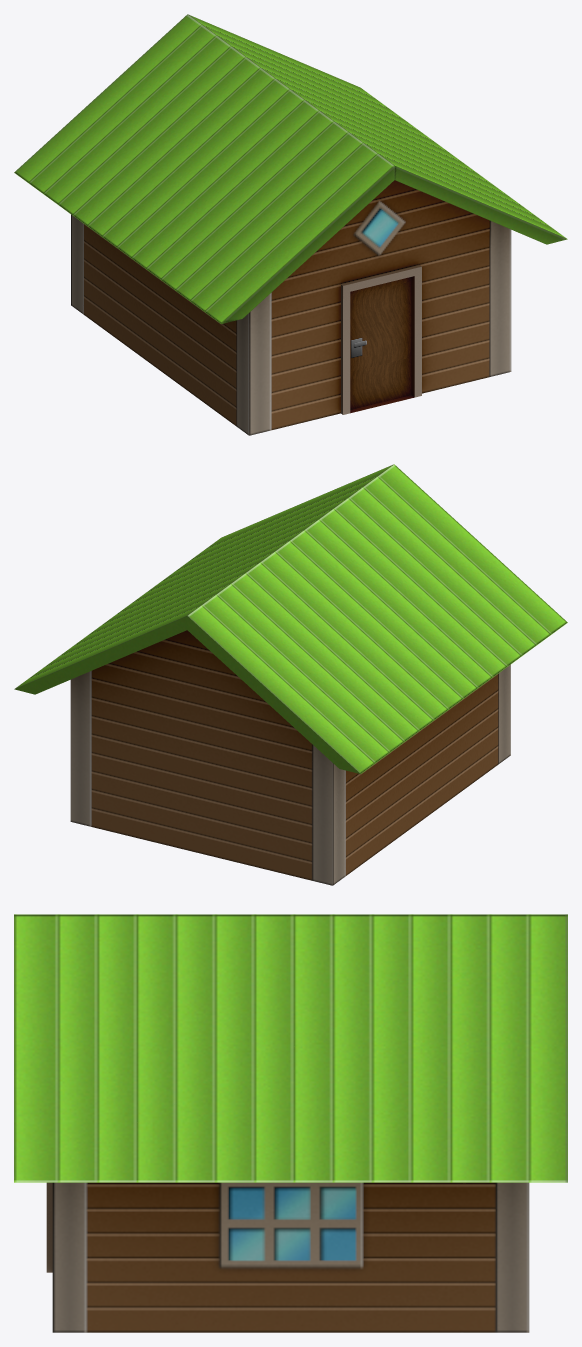
Rendered from chicken_coop.fbx.
3 views of the same model, one above another, from view 1: azimuth 30°, elevation 25°; view 2: azimuth 150°, elevation 25°; view 3: azimuth 270°, elevation 25° (orthographic). The views are drawn at different scales.
Parts seen in each view (by area): view 1: chicken_coop_geo, door_geo; view 2: chicken_coop_geo; view 3: chicken_coop_geo.
Part boxes in pixels (box(x1,y1,x2,y2)): chicken_coop_geo: box(14, 14, 567, 435); door_geo: box(350, 277, 411, 409); chicken_coop_geo: box(14, 464, 567, 885); chicken_coop_geo: box(14, 914, 567, 1332).
Bounding box in the file's own units: 0.0724 × 0.0496 × 0.0748.
